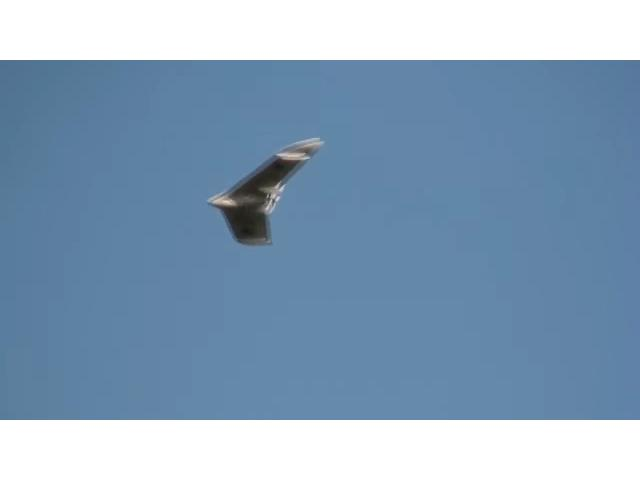Anti-Drone: (208, 140, 322, 244)
